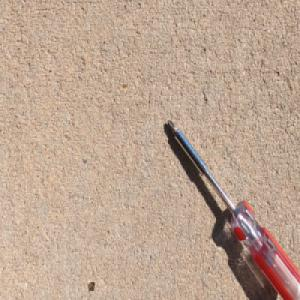Screwdriver: (166, 117, 300, 300)
